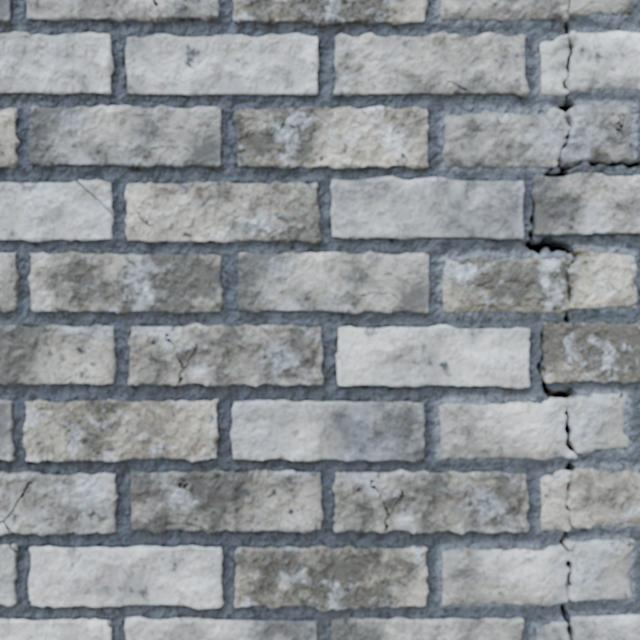broken_brick: (439, 393, 628, 459), (442, 540, 633, 605), (443, 248, 636, 312), (443, 105, 633, 167), (540, 31, 639, 95), (541, 468, 639, 530), (441, 0, 633, 21), (571, 615, 639, 639), (536, 622, 568, 639)
crack: (524, 130, 639, 264), (234, 546, 428, 611), (333, 469, 529, 533), (334, 32, 528, 96), (130, 469, 323, 533), (125, 181, 321, 244), (233, 106, 428, 169), (128, 323, 323, 386), (28, 546, 222, 609), (330, 176, 524, 239), (336, 325, 529, 388), (29, 105, 221, 168), (23, 400, 218, 462), (28, 252, 222, 314), (237, 252, 429, 314), (231, 400, 425, 461), (126, 34, 318, 95), (536, 309, 639, 399), (0, 472, 117, 535), (0, 324, 116, 385), (0, 32, 113, 94), (0, 180, 113, 241), (233, 0, 427, 26), (26, 0, 219, 22), (331, 617, 523, 639), (125, 617, 317, 639), (0, 619, 111, 639), (558, 39, 575, 128), (0, 253, 19, 312), (0, 108, 19, 167), (0, 544, 17, 605), (0, 400, 14, 460), (564, 407, 577, 454), (560, 602, 573, 639), (588, 159, 639, 168), (564, 559, 574, 599), (610, 113, 625, 138), (0, 0, 11, 22), (559, 530, 569, 552), (565, 458, 574, 471), (566, 481, 572, 500), (563, 19, 570, 35), (618, 540, 634, 547), (567, 284, 572, 306), (618, 140, 631, 146), (564, 270, 570, 281), (616, 392, 622, 400), (568, 518, 572, 526), (476, 455, 506, 456), (565, 504, 569, 511)
